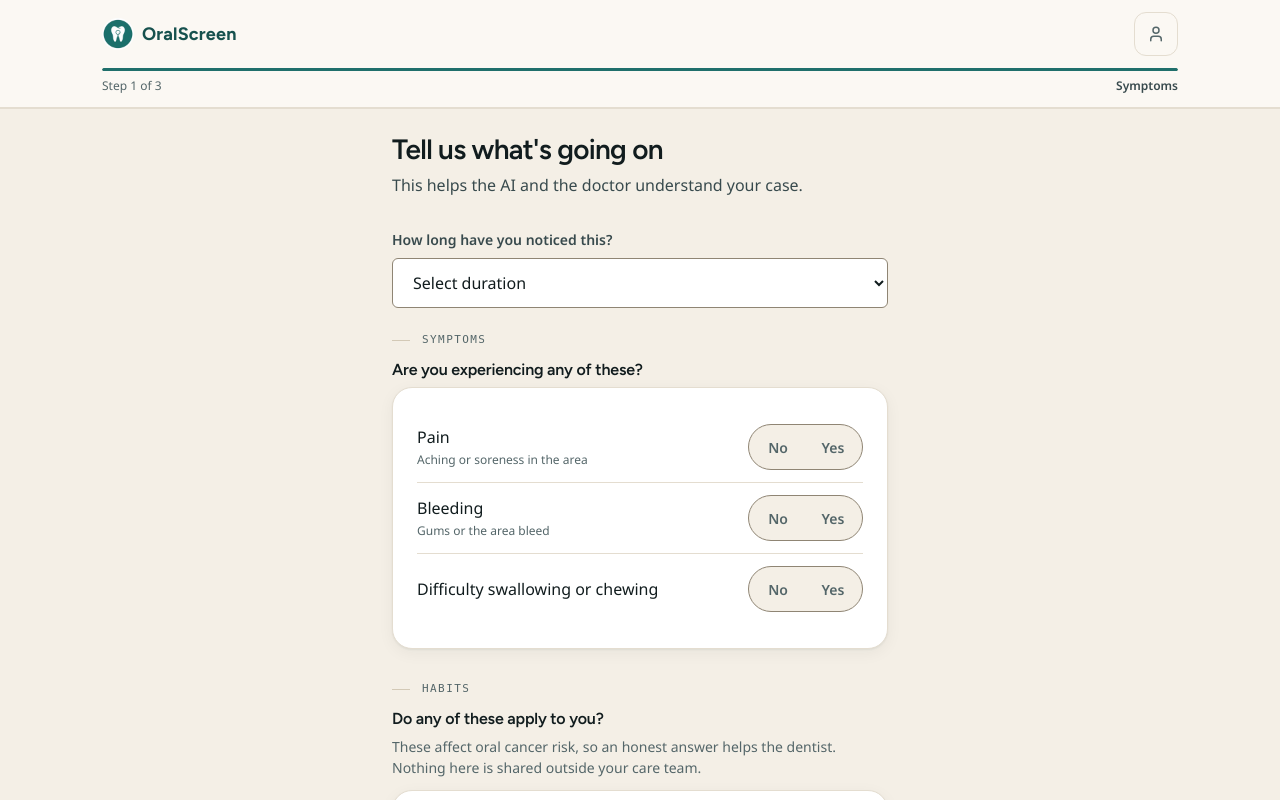
it: completeness gating › treats an explicit "No" as answered — it is not the same as skipping
Click the button "No" in the row of "Aching or soreness in the area": [778, 447] box [752,428,804,466]
(page scrolled)
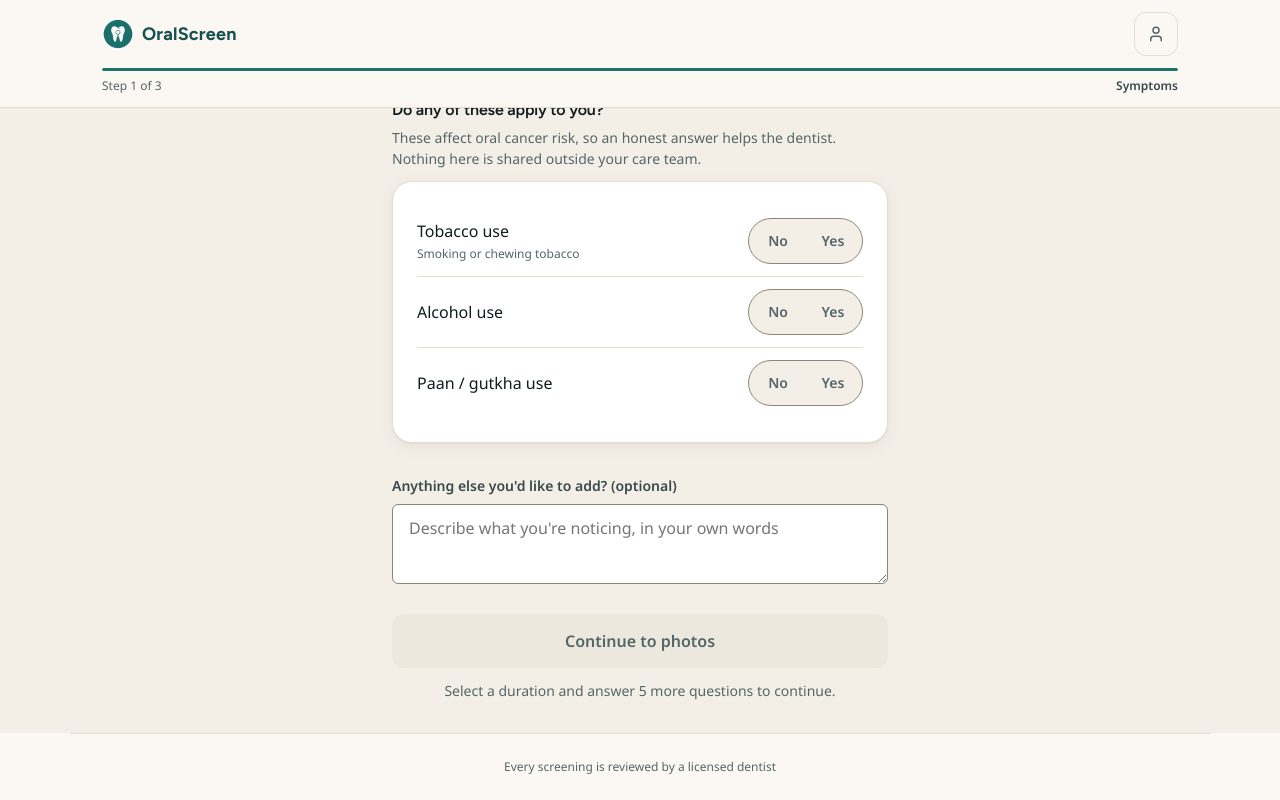
Expected: the message shows "answer 5 more questions", [444,681,836,700]
